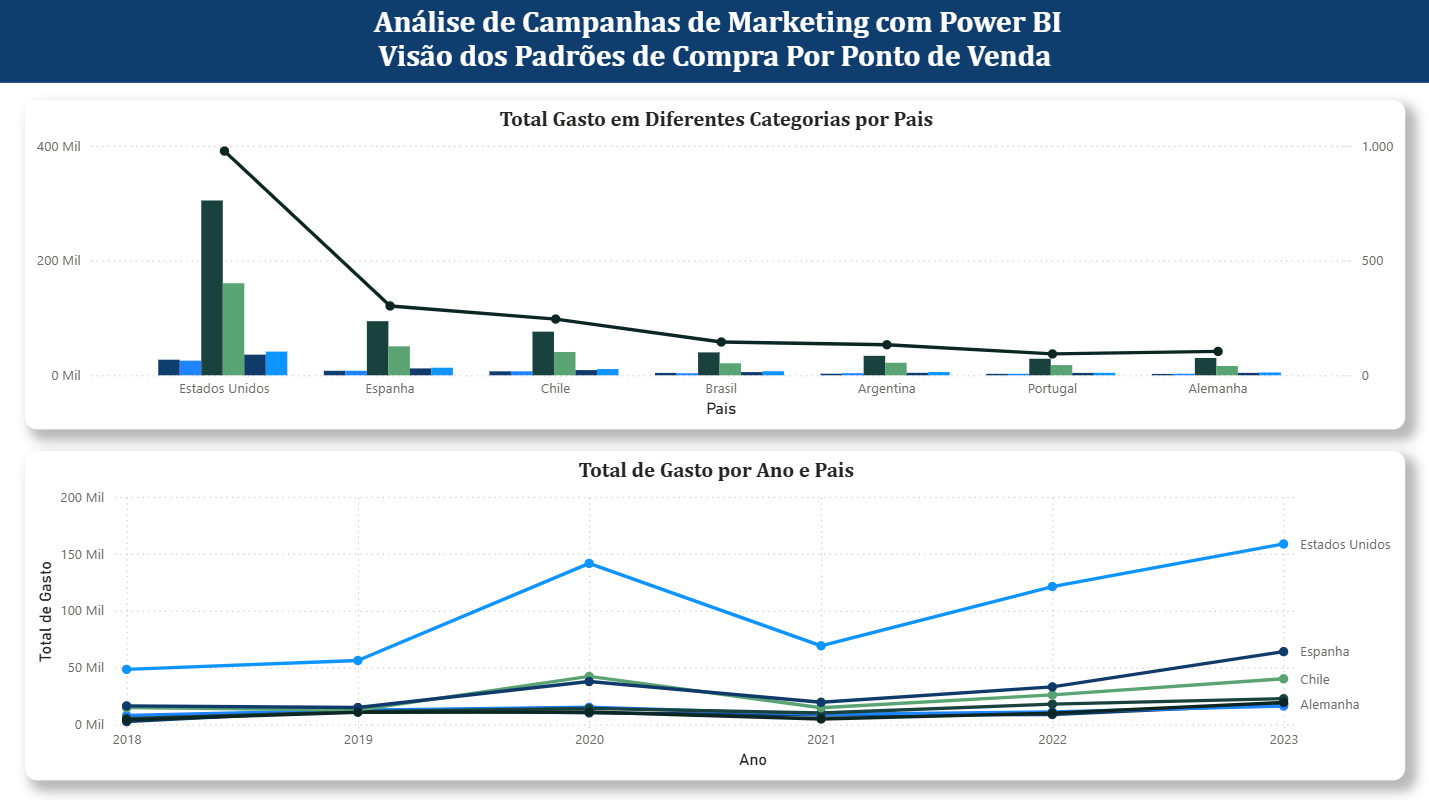

The page's visual inventory and layout, read from the dashboard file:
{"tool":"powerbi","page":{"name":"Duplicata de  Visão Campanha","canvas":[1280,720],"ordinal":3},"visuals":[{"type":"textbox","box":[0,0,1280,76],"z":0},{"type":"lineClusteredColumnComboChart","title":"Total Gasto em Diferentes Categorias por Pais","fields":{"Category":["DadosMarketing.Pais"],"Y":["Sum(DadosMarketing.Gasto com Alimentos)","Sum(DadosMarketing.Gasto com Brinquedos)","Sum(DadosMarketing.Gasto com Eletronicos)","Sum(DadosMarketing.Gasto com Moveis)","Sum(DadosMarketing.Gasto com Utilidades)","Sum(DadosMarketing.Gasto com Vestuario)"],"Y2":["CountNonNull(DadosMarketing.ID)"]},"box":[22.4,91.6,1236.1,294.5],"z":1000},{"type":"lineChart","title":"Total de Gasto por Ano e Pais","fields":{"Y":["DadosMarketing.TotalGasto"],"Category":["DadosMarketing.Data Cadastro.Variation.Hierarquia de datas.Ano"],"Series":["DadosMarketing.Pais"]},"box":[22.4,405.8,1236.1,294.5],"z":1001}]}

Visuals, with their boxes in screenshot pixels (x1, y1, x2, y2), scaled from the page's 1280x720 canvas onto the 1429x800 screenshot:
textbox: bbox=[0, 0, 1428, 84]
"Total Gasto em Diferentes Categorias por Pais" lineClusteredColumnComboChart: bbox=[25, 102, 1405, 429]
"Total de Gasto por Ano e Pais" lineChart: bbox=[25, 451, 1405, 778]
